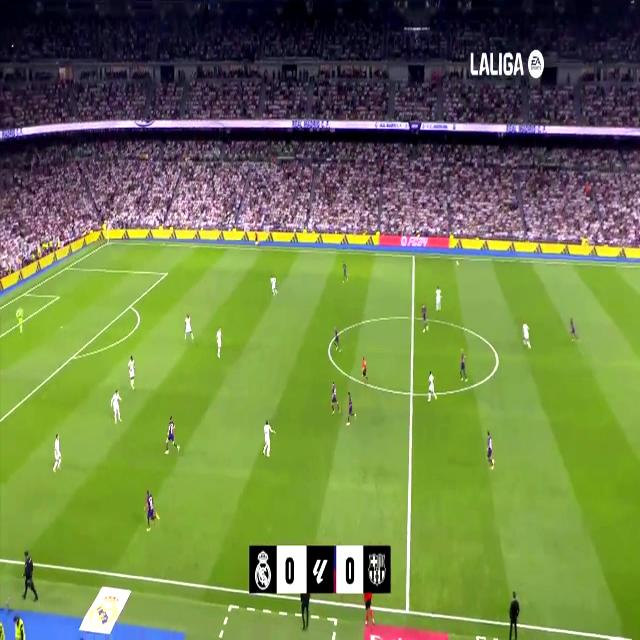bigarea_top_inner: (162, 267, 168, 279)
bigarea_top_outter: (64, 261, 70, 271)
bottom_arc_area_intersection: (69, 349, 77, 363)
halfcircle_bottom: (407, 380, 417, 406)
halfcircle_top: (409, 307, 417, 326)
midline_bottom_intersection: (400, 594, 415, 622)
midline_top_intersection: (410, 248, 418, 263)
smallarea_top_inner: (56, 292, 60, 300)
top_arc_area_intersection: (127, 299, 133, 311)
